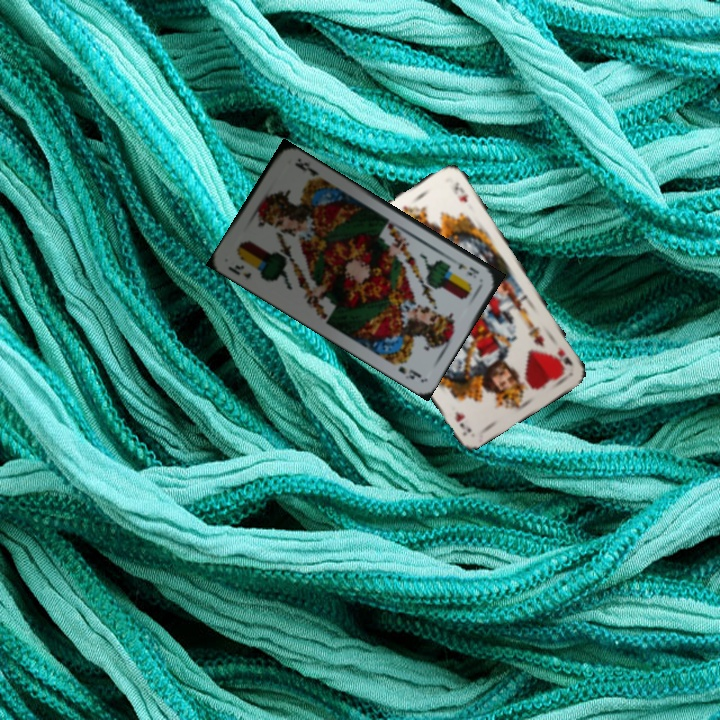EK: (448, 255, 482, 278), (224, 261, 254, 281)
HK: (553, 343, 576, 368)
